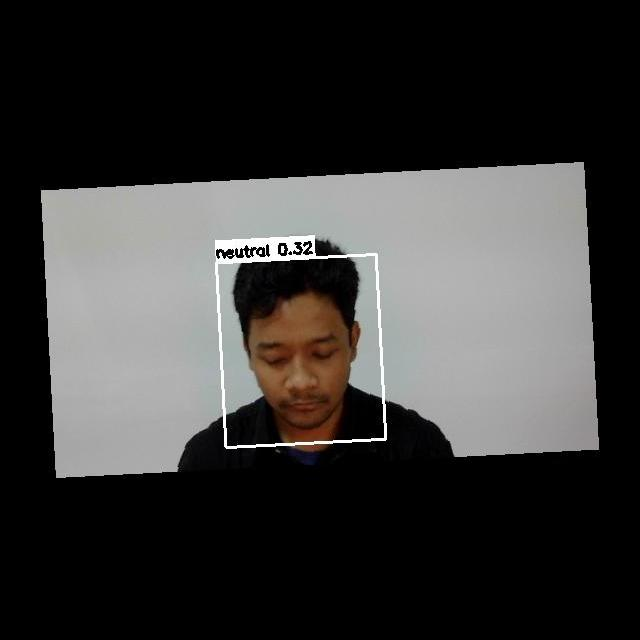Sad: (246, 324, 347, 420)
